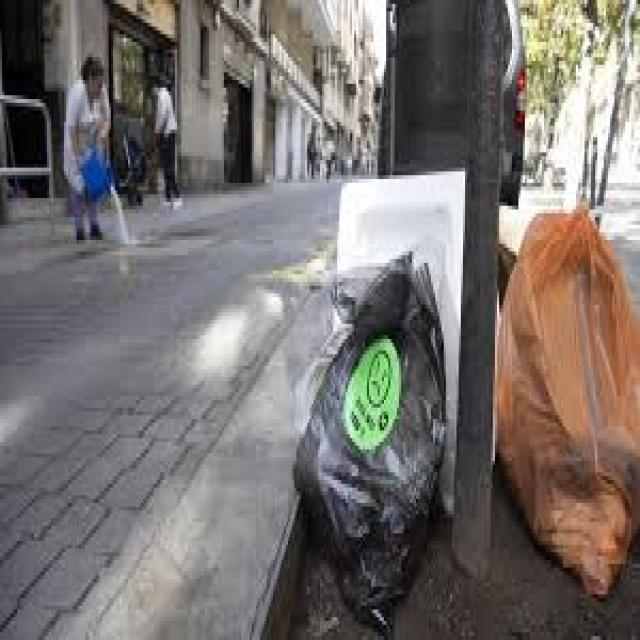garbage: (293, 135, 640, 622)
